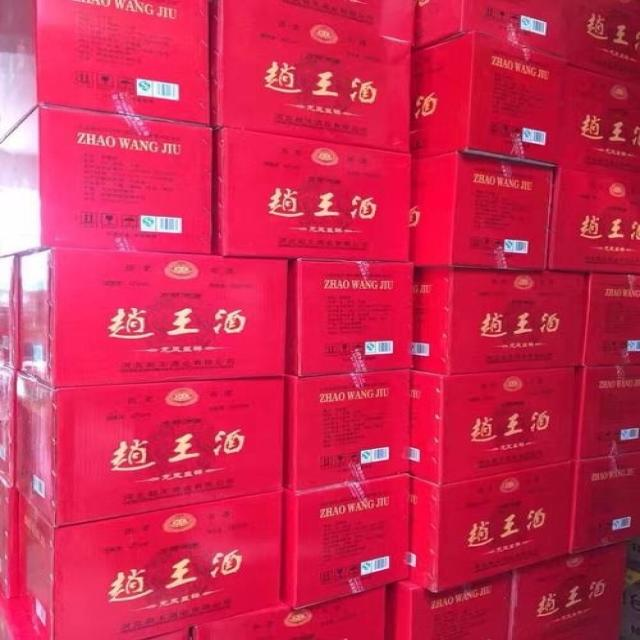box: (17, 370, 285, 527), (17, 489, 287, 637), (17, 248, 287, 387), (0, 107, 212, 257), (211, 1, 415, 153), (0, 1, 212, 139), (215, 130, 414, 260), (410, 459, 575, 594), (407, 365, 582, 484), (413, 32, 566, 167), (412, 269, 589, 374), (283, 470, 413, 612), (281, 368, 413, 493), (410, 153, 552, 268), (286, 259, 415, 378), (186, 585, 393, 639), (509, 540, 623, 637), (559, 58, 639, 183), (551, 169, 637, 277), (416, 1, 566, 57), (390, 575, 514, 638), (571, 452, 639, 555), (563, 1, 639, 85), (254, 0, 416, 39), (577, 364, 639, 459), (579, 273, 638, 365), (0, 364, 21, 490), (0, 256, 19, 369), (1, 473, 17, 597), (1, 591, 36, 639), (150, 626, 194, 637)
